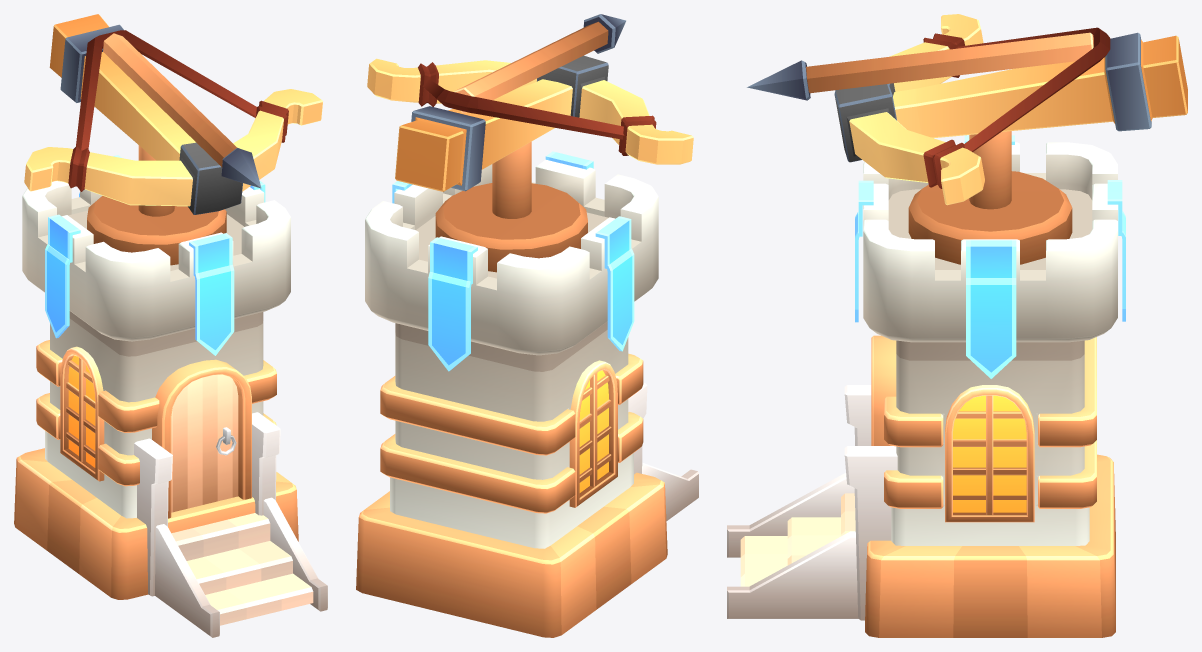
File: casa1.glb
The picture shows the model from 3 angles, left to right: view 1: azimuth 30°, elevation 25°; view 2: azimuth 150°, elevation 25°; view 3: azimuth 270°, elevation 25°; orthographic projection. The views are drawn at different scales.
Visible parts, largest first — view 1: Tower.001_39, Crossbow.001_40; view 2: Tower.001_39, Crossbow.001_40; view 3: Tower.001_39, Crossbow.001_40.
Part boxes in pixels (x1,y1,x2,y2): Tower.001_39: (14,155,327,637); Crossbow.001_40: (24,14,322,265); Tower.001_39: (356,151,698,637); Crossbow.001_40: (367,14,693,272); Tower.001_39: (727,135,1125,637); Crossbow.001_40: (747,14,1187,264).
Bounding box in the file's own units: 1.03 × 1.6 × 1.21.
1 material, 1 textured.
